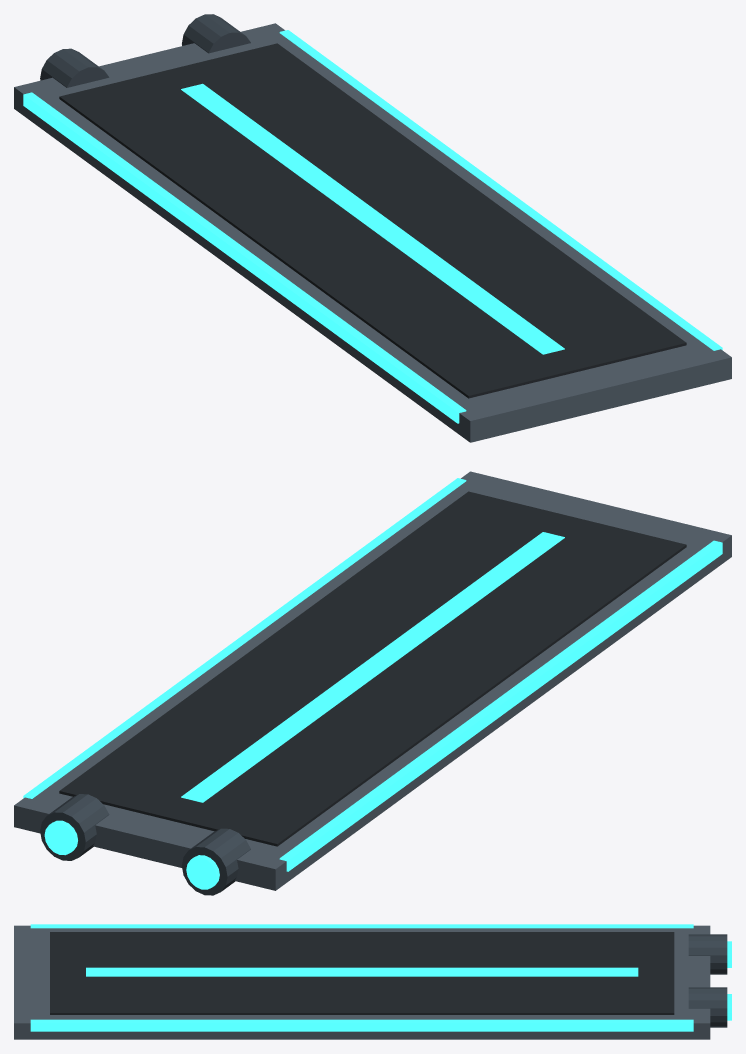
Rendered from hoverboard.glb.
The picture shows the model from 3 angles, top to bottom: view 1: azimuth 30°, elevation 25°; view 2: azimuth 150°, elevation 25°; view 3: azimuth 270°, elevation 25°; orthographic projection. The views are drawn at different scales.
Parts seen in each view (by area): view 1: Grip_Tape, Hoverboard_Deck, Neon_Rail_-1, Center_Stripe, Neon_Rail_1, Rear_Thruster_1, Rear_Thruster_-1; view 2: Grip_Tape, Hoverboard_Deck, Neon_Rail_-1, Center_Stripe, Neon_Rail_1, Rear_Thruster_-1, Rear_Thruster_1, Rear_Thruster_Glow_-1, Rear_Thruster_Glow_1; view 3: Grip_Tape, Hoverboard_Deck, Neon_Rail_1, Center_Stripe, Neon_Rail_-1, Rear_Thruster_1, Rear_Thruster_-1.
Part boxes in pixels (<box>): Grip_Tape: <box>59,43,686,398</box>; Hoverboard_Deck: <box>14,23,731,442</box>; Neon_Rail_-1: <box>23,92,466,423</box>; Center_Stripe: <box>181,83,564,354</box>; Neon_Rail_1: <box>279,30,722,350</box>; Rear_Thruster_1: <box>182,14,250,53</box>; Rear_Thruster_-1: <box>40,48,109,87</box>; Grip_Tape: <box>59,491,686,846</box>; Hoverboard_Deck: <box>14,471,731,890</box>; Neon_Rail_-1: <box>279,540,722,871</box>; Center_Stripe: <box>181,532,564,802</box>; Neon_Rail_1: <box>23,478,466,798</box>; Rear_Thruster_-1: <box>181,828,250,895</box>; Rear_Thruster_1: <box>40,794,109,860</box>; Rear_Thruster_Glow_-1: <box>186,855,219,889</box>; Rear_Thruster_Glow_1: <box>44,820,77,855</box>; Grip_Tape: <box>50,932,674,1014</box>; Hoverboard_Deck: <box>14,925,710,1039</box>; Neon_Rail_1: <box>30,1019,693,1031</box>; Center_Stripe: <box>86,967,638,976</box>; Neon_Rail_-1: <box>30,924,693,928</box>; Rear_Thruster_1: <box>688,987,727,1027</box>; Rear_Thruster_-1: <box>688,934,727,974</box>.
Bounding box in the file's own units: 0.486 × 0.084 × 1.5.
